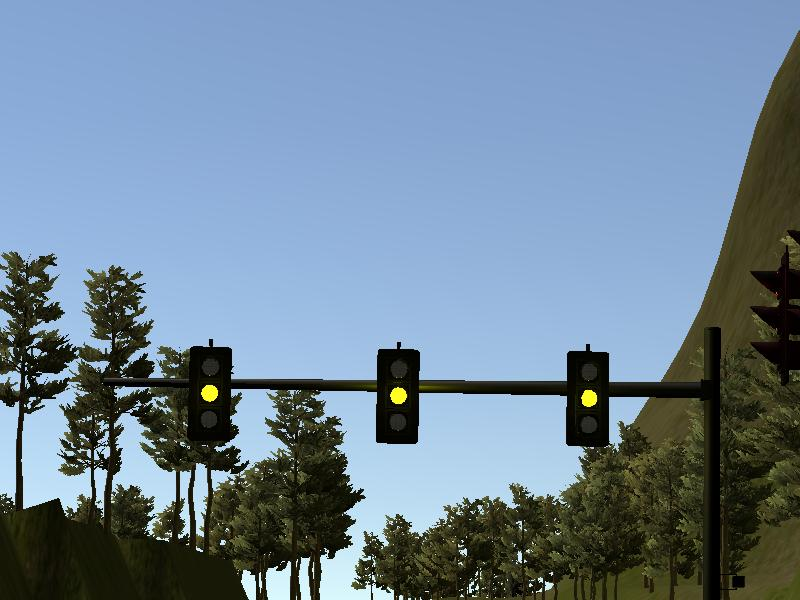yellow: (188, 344, 231, 441), (376, 347, 419, 444), (567, 350, 610, 446)
